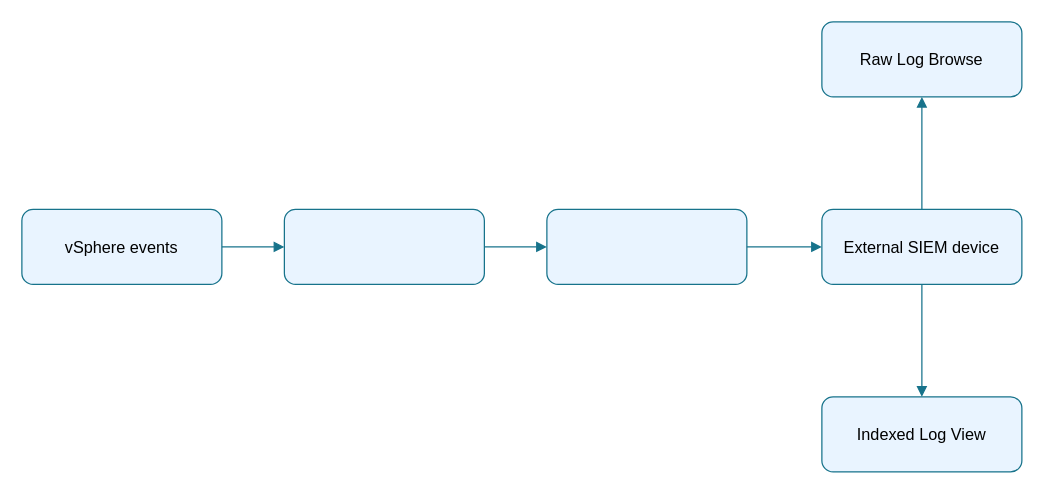
Some shapes in this 1044 by 494 pixel diagram are drawn without their labels. The shapes that lost their labels are listed below. From the top down, each one's centre as x and y in pixels, then its label:
At pixel 383 246: "Hidden playbook".
At pixel 646 246: "VMware parser".
